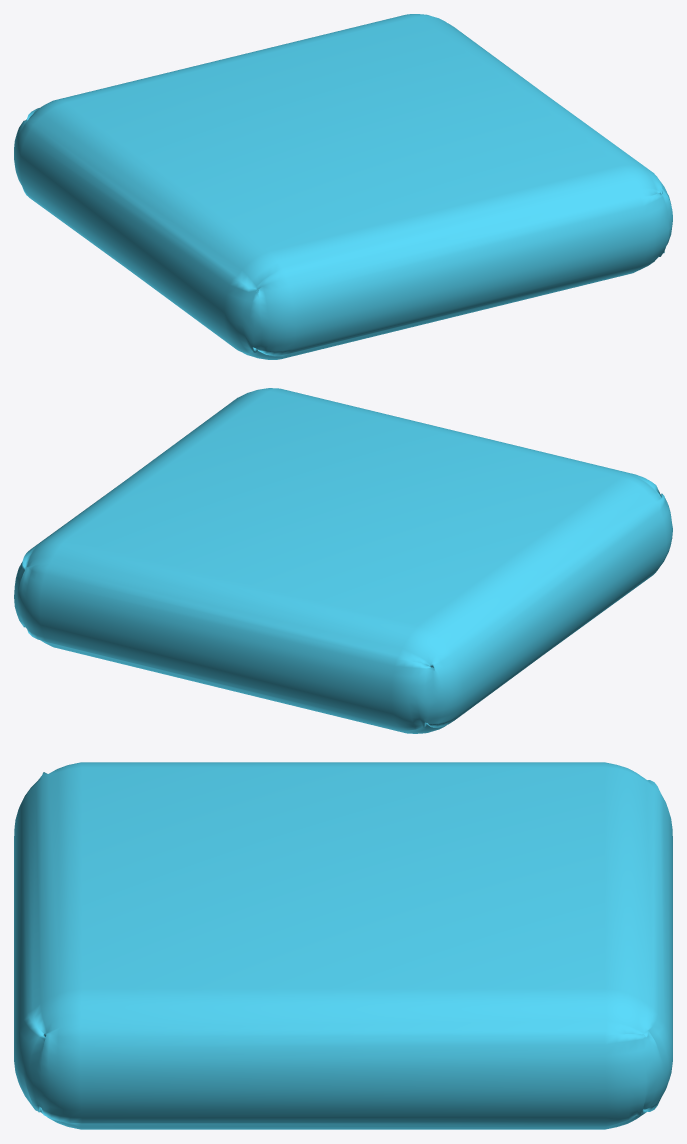
Rendered from badge_javascript.glb.
The picture shows the model from 3 angles, top to bottom: view 1: azimuth 30°, elevation 25°; view 2: azimuth 150°, elevation 25°; view 3: azimuth 270°, elevation 25°; orthographic projection. The views are drawn at different scales.
Visible parts, largest first — view 1: badge_javascript; view 2: badge_javascript; view 3: badge_javascript.
Part boxes in pixels (x1=…): badge_javascript: x1=14, y1=14, x2=672, y2=359; badge_javascript: x1=14, y1=388, x2=672, y2=733; badge_javascript: x1=14, y1=762, x2=672, y2=1129.
Size of the model in its own units: 1.54 by 0.3499 by 1.54.
